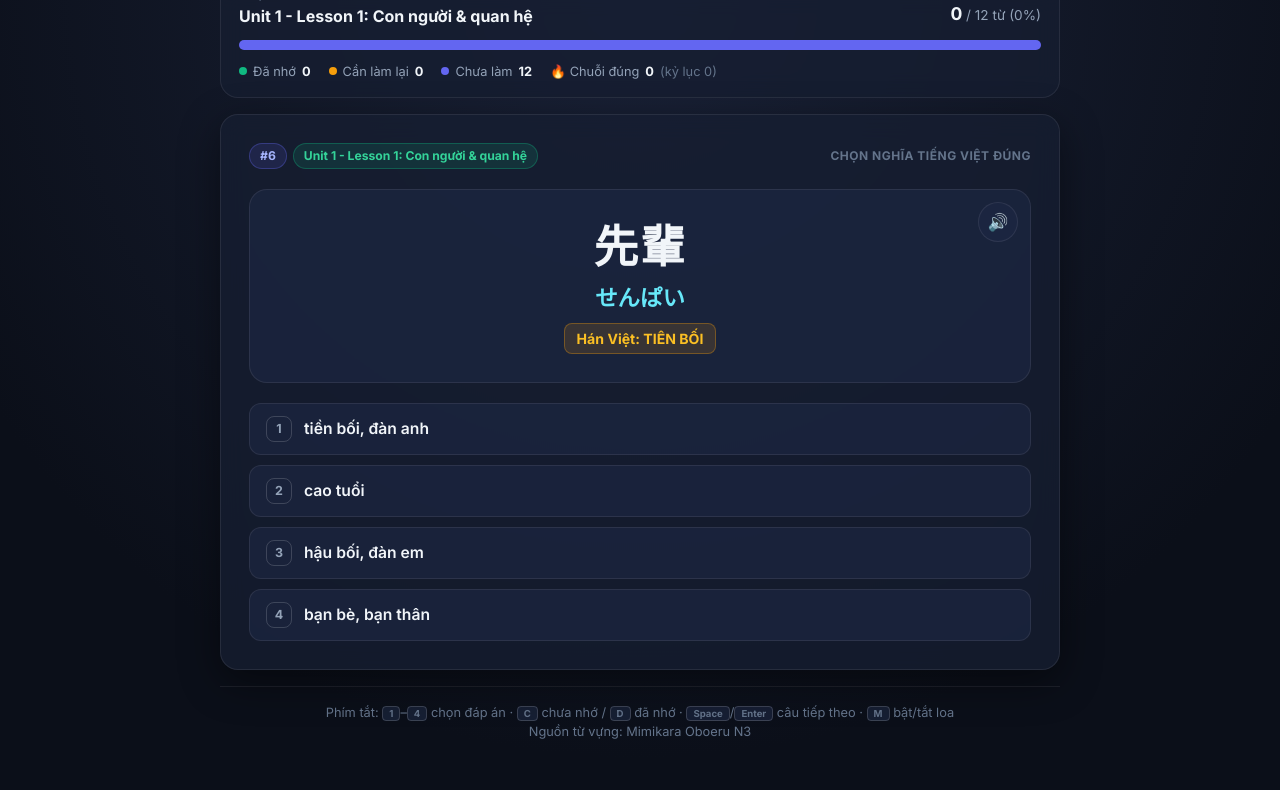
Mimikara Oboeru N3 – vocabulary practice › puts a wrongly answered word back in the retry queue and the unremembered list
(page scrolled)
What coordinates should you click on to do the following:
click the button with class "option" showing "2 cao tuổi"
I would click on:
 (334, 491)
Its box is [249, 465, 1031, 517].
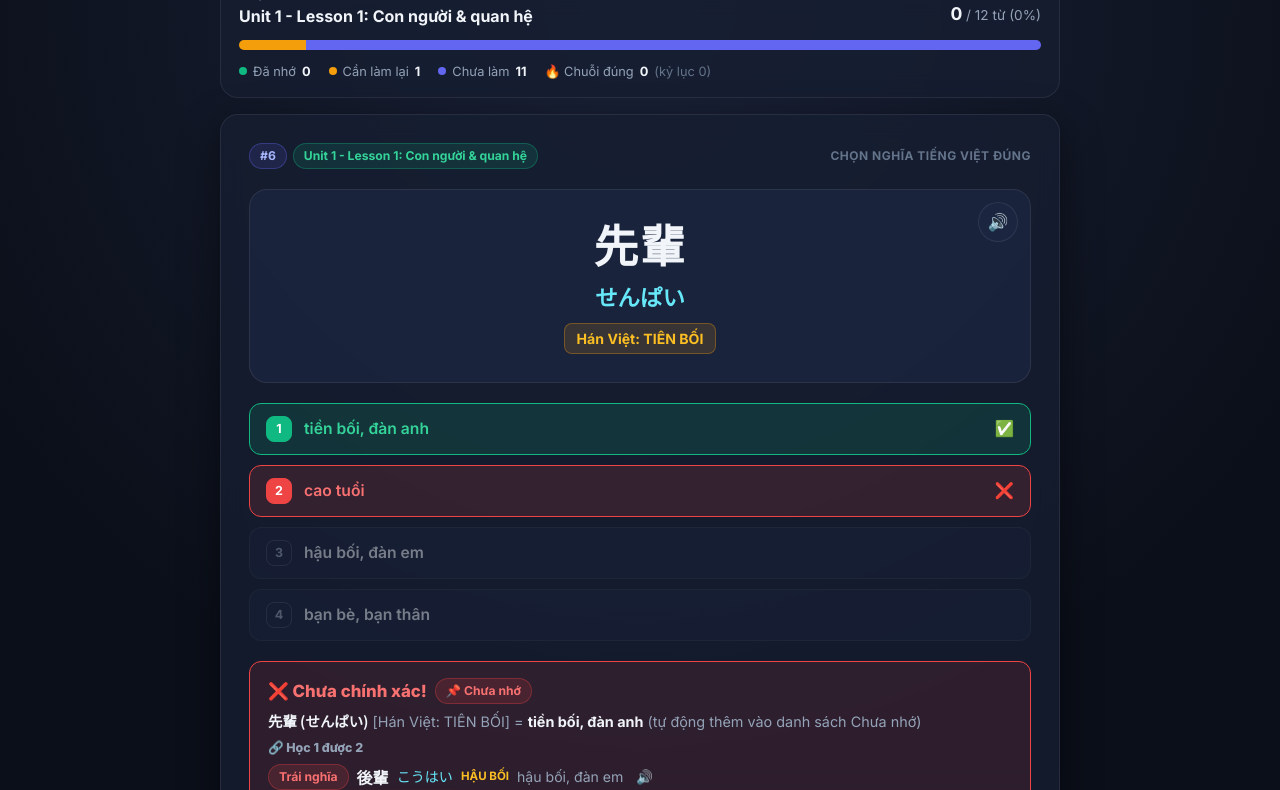
Result: the text "1" next to "Cần làm lại" is shown at [415, 64, 420, 79]
Result: the text "tự động thêm vào danh sách Chưa nhớ" is shown at [643, 714, 922, 730]
